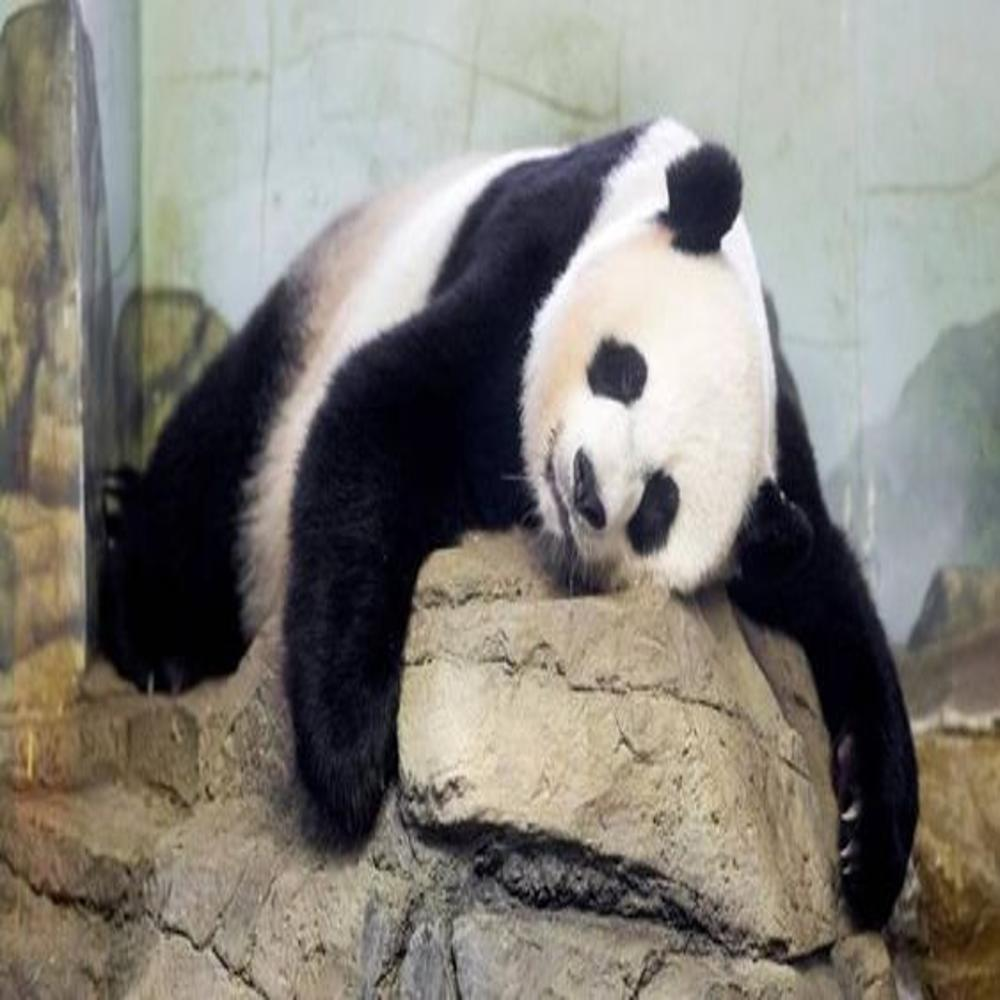panda: (76, 114, 933, 936)
